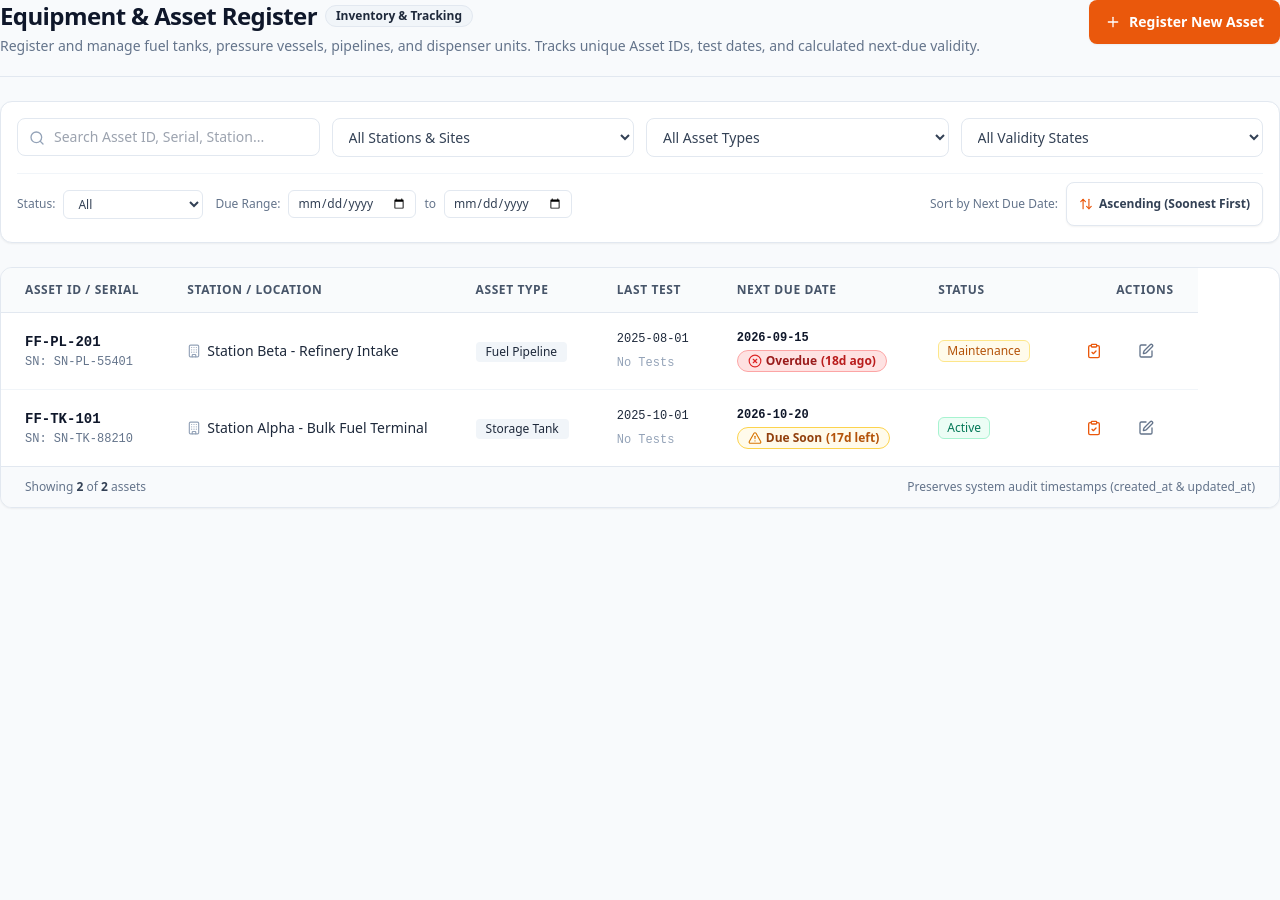
Test: AssetManagementView Component › opens Register Asset modal on button click
Step 1. Click the button "Register New Asset" → click(1185, 22), box [1089,0,1279,44]
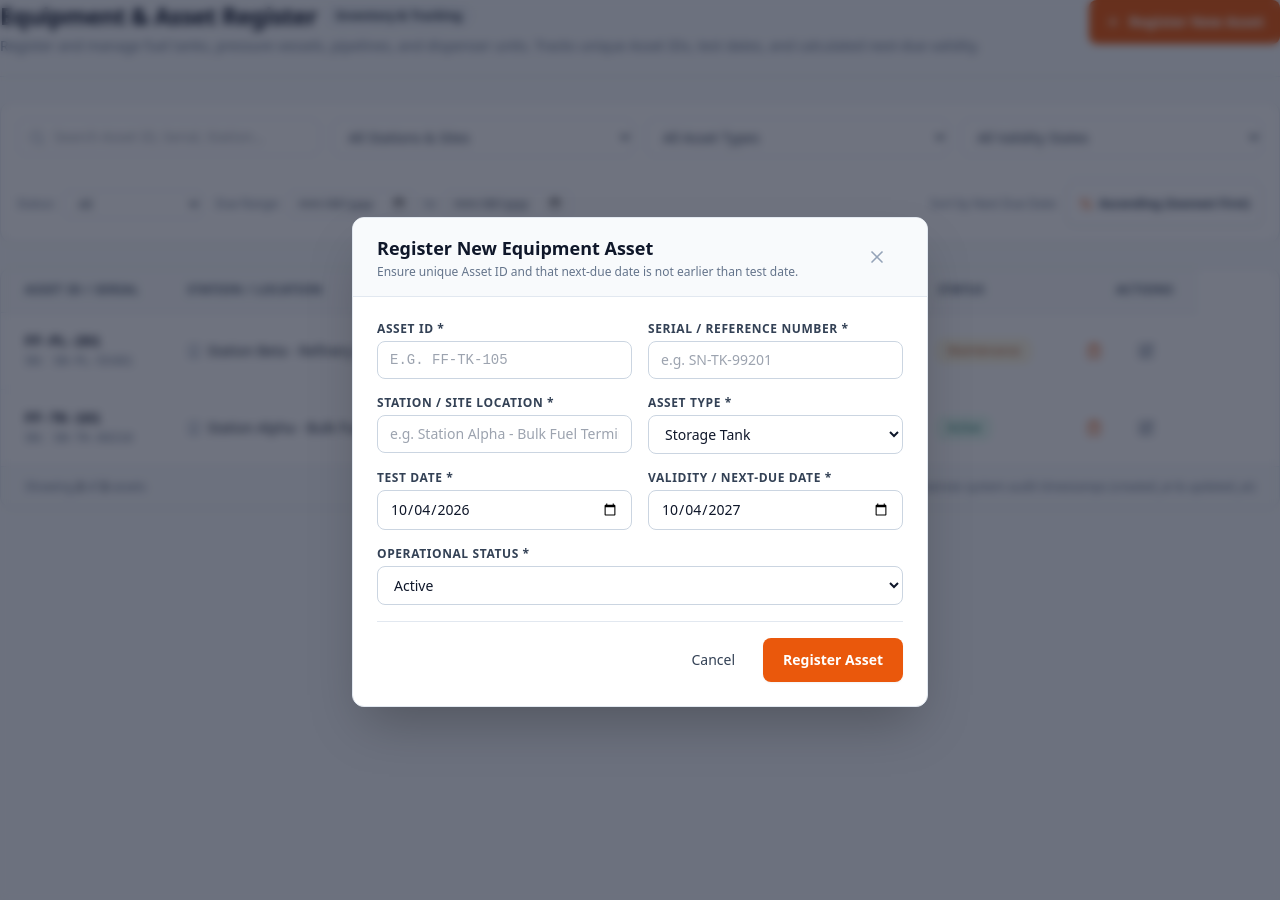
Expected: the heading "Register New Equipment Asset" is shown, [377,236,653,260]
Expected: the text "Asset ID *" is shown, [377,320,444,337]
